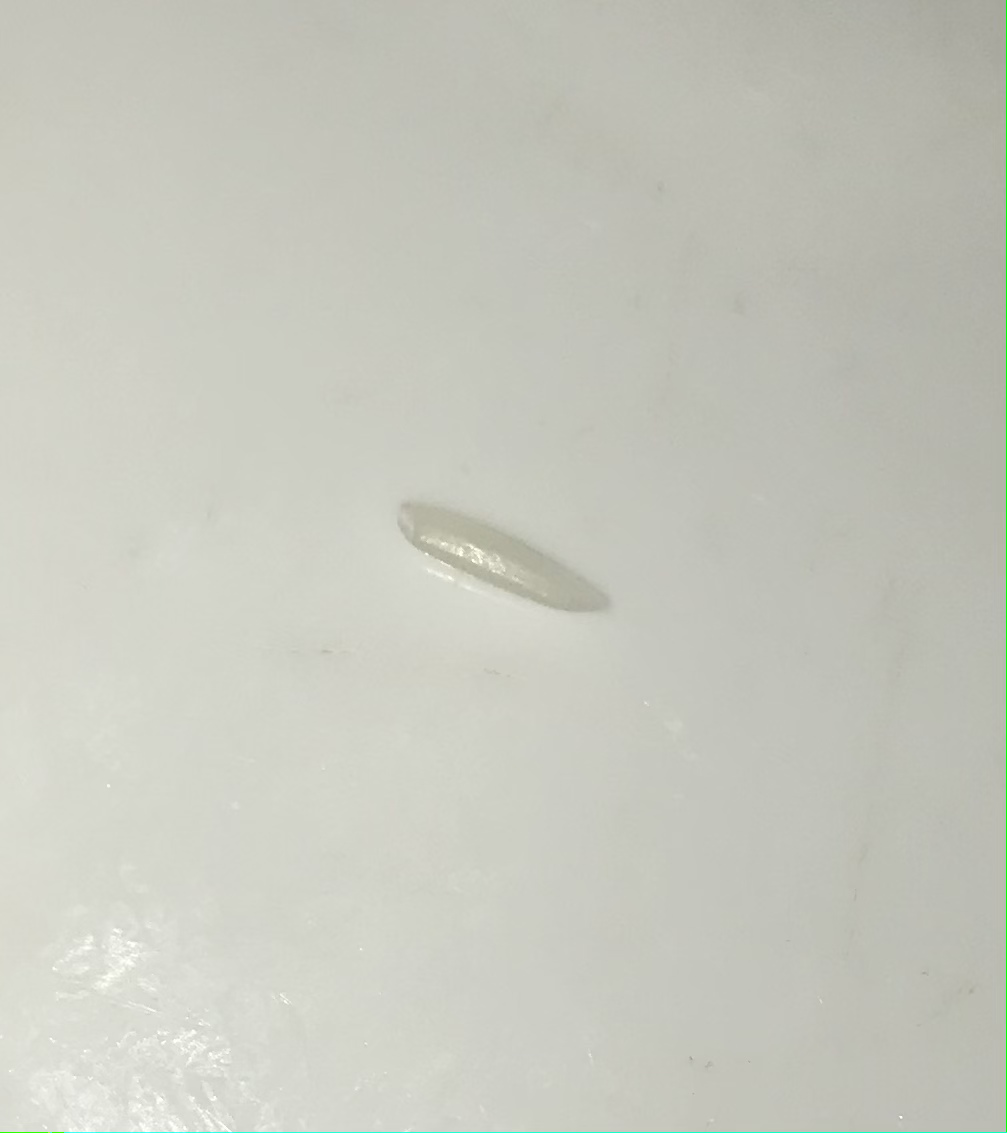Gao Ngoc Troi: (382, 482, 620, 637)
